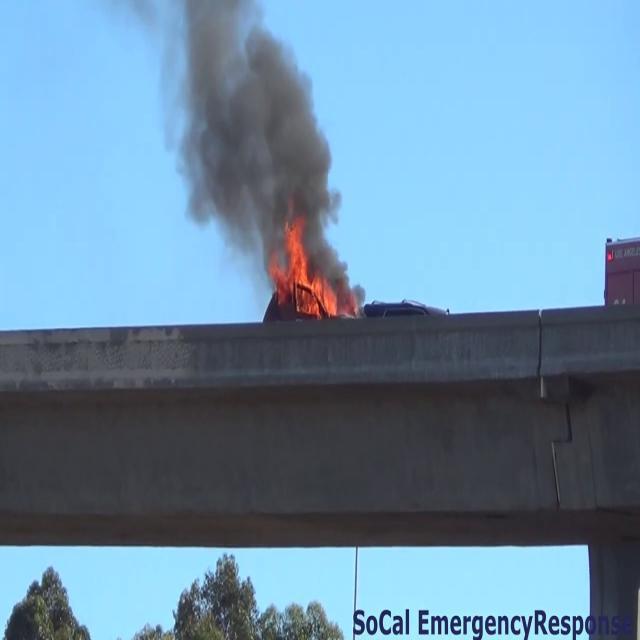Fire: (278, 225, 341, 321)
Smoke: (154, 0, 348, 264)
